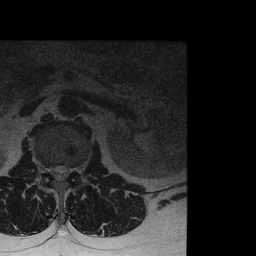CCS_normal: (56, 158, 63, 186)
LFS_stenosis: (70, 159, 77, 178)
LLS_normal: (63, 159, 70, 182)
RFS_normal: (44, 159, 50, 178)
RLS_normal: (50, 160, 56, 181)
